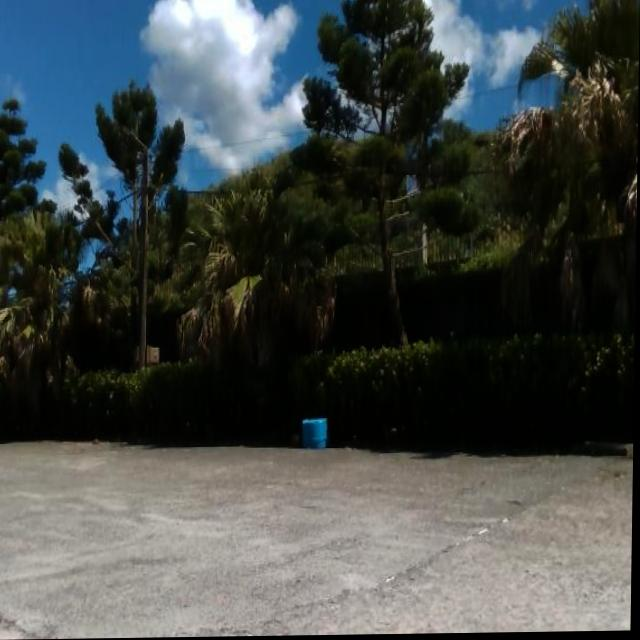pollute: (300, 415, 331, 457)
